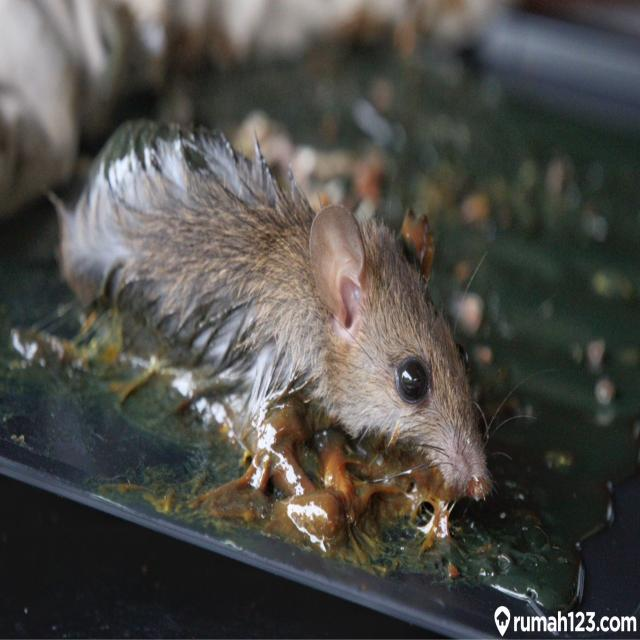rat: (56, 109, 529, 545)
